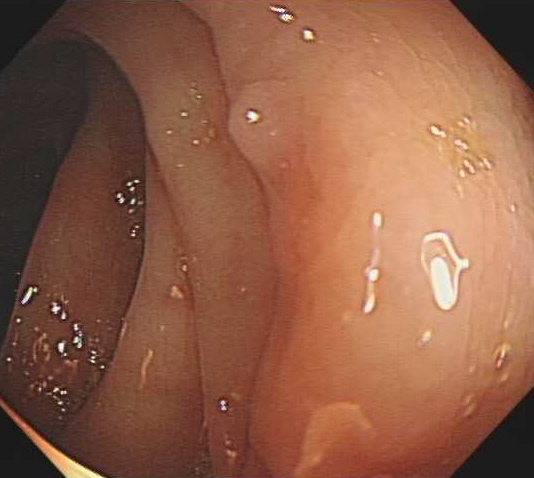others: (226, 75, 299, 166)
